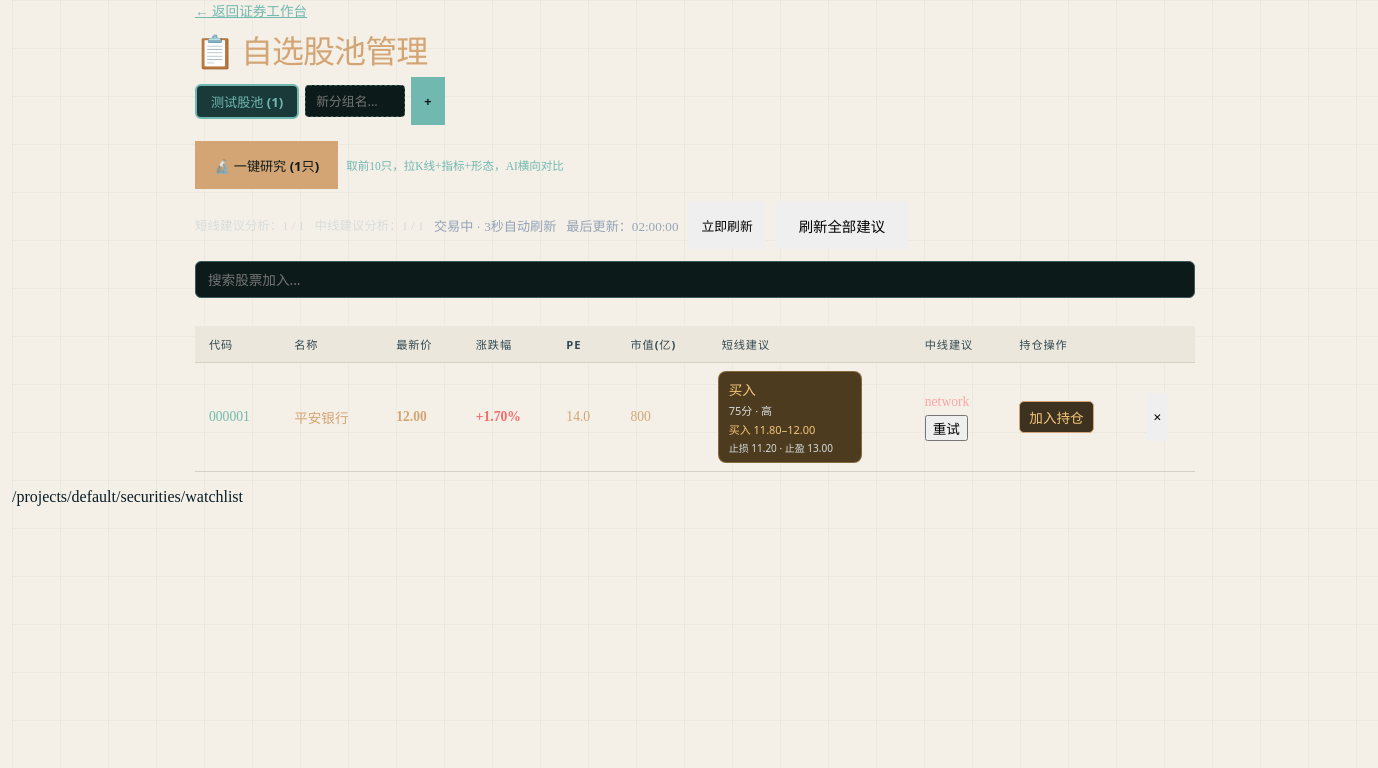
WatchlistPage buy advice integration › retries only the failed stock
The image size is (1378, 768).
Click the button with aria-label "重试平安银行建议".
click(946, 428)  # box [925,415,968,441]
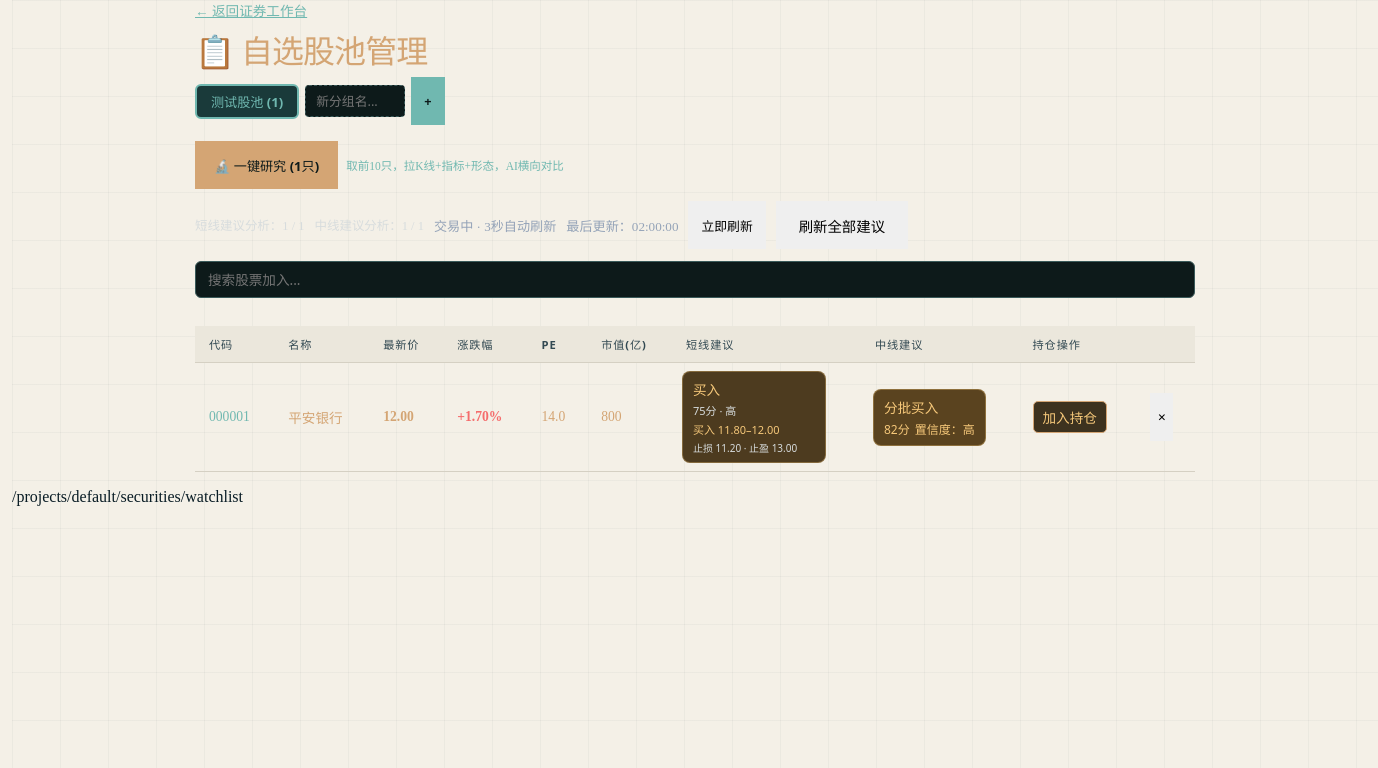
Expected: the text "分批买入" is shown, [884,398,938,417]
